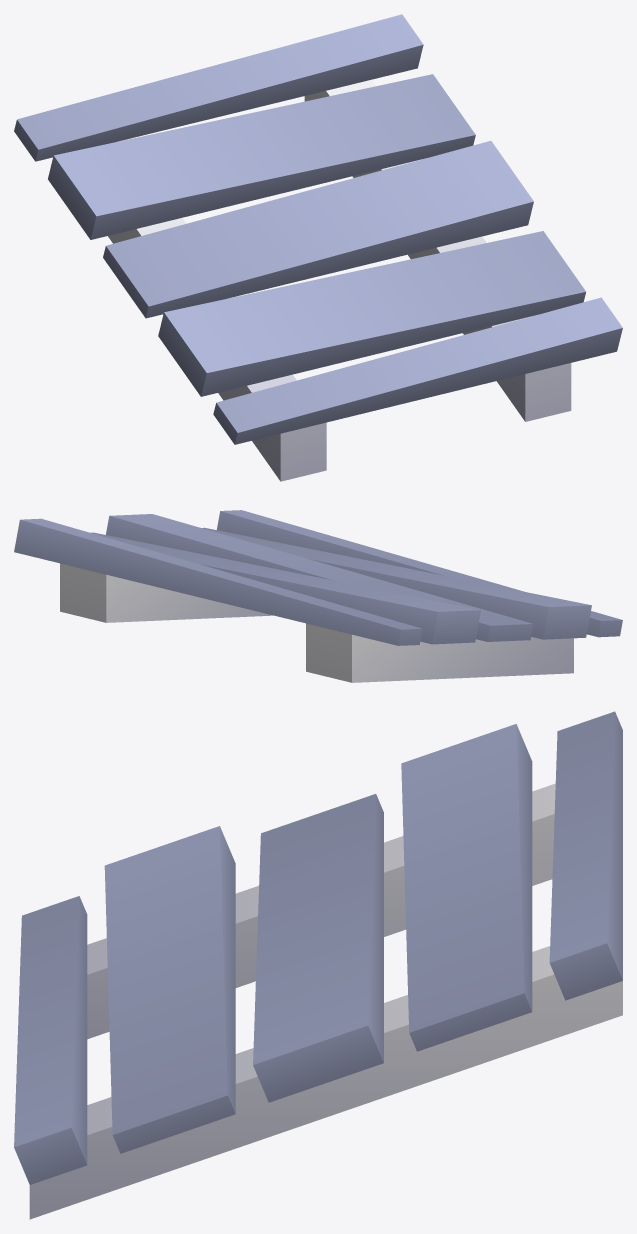
File: platform-ramp.glb
3 views of the same model, one above another, from view 1: azimuth 30°, elevation 25°; view 2: azimuth 150°, elevation 25°; view 3: azimuth 270°, elevation 25° (orthographic). The views are drawn at different scales.
Parts seen in each view (by area): view 1: platform-ramp; view 2: platform-ramp; view 3: platform-ramp.
Boxes of the visible parts, box(x1,y1,x2,y2) form: platform-ramp: box(14, 14, 622, 481); platform-ramp: box(14, 510, 622, 682); platform-ramp: box(14, 711, 622, 1219).
Bounding box in the file's own units: 1 × 0.5701 × 1.03.
